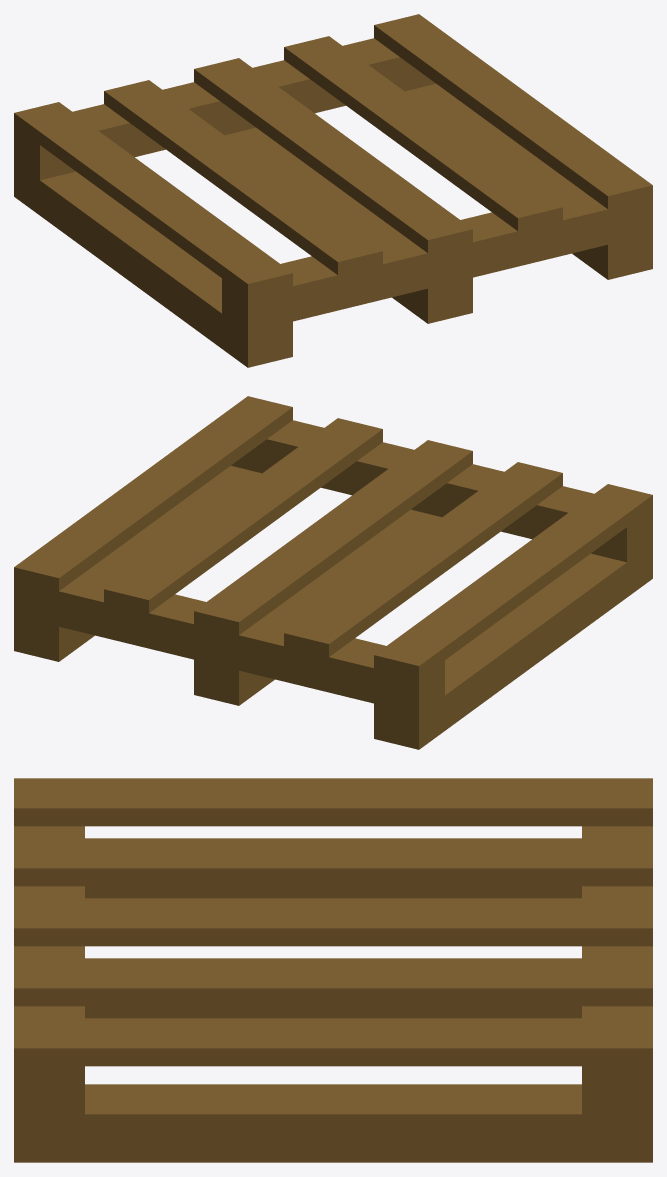
Rendered from wooden_palette_01.FBX.
3 renders of one model, top to bottom at view 1: azimuth 30°, elevation 25°; view 2: azimuth 150°, elevation 25°; view 3: azimuth 270°, elevation 25°, orthographic. The views are drawn at different scales.
Visible parts, largest first — view 1: Palette; view 2: Palette; view 3: Palette.
Boxes of the visible parts, left/top/right/bottom form: Palette: left=14, top=14, right=652, bottom=367; Palette: left=14, top=396, right=652, bottom=749; Palette: left=14, top=778, right=652, bottom=1162.
Size of the model in its own units: 40 by 7.9 by 40.
